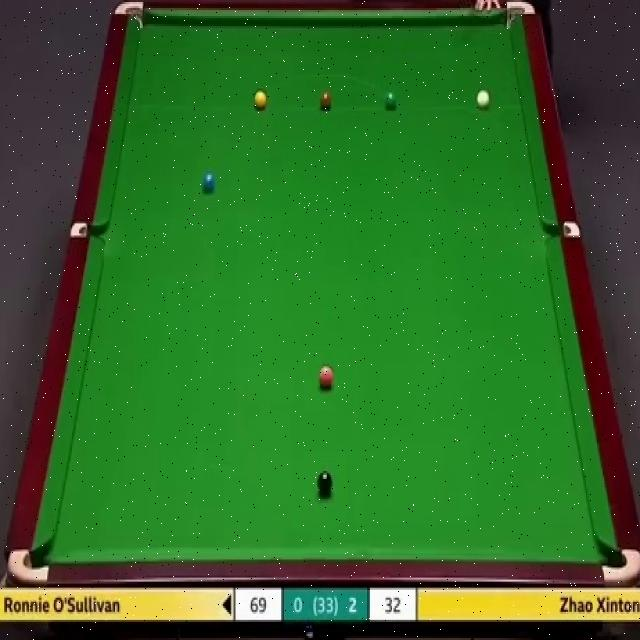black-ball: (316, 470, 333, 496)
blue-ball: (202, 173, 216, 193)
brown-ball: (318, 89, 333, 110)
green-ball: (382, 91, 398, 111)
pink-ball: (316, 365, 334, 389)
white-ball: (476, 88, 490, 109)
yellow-ball: (253, 88, 267, 110)
